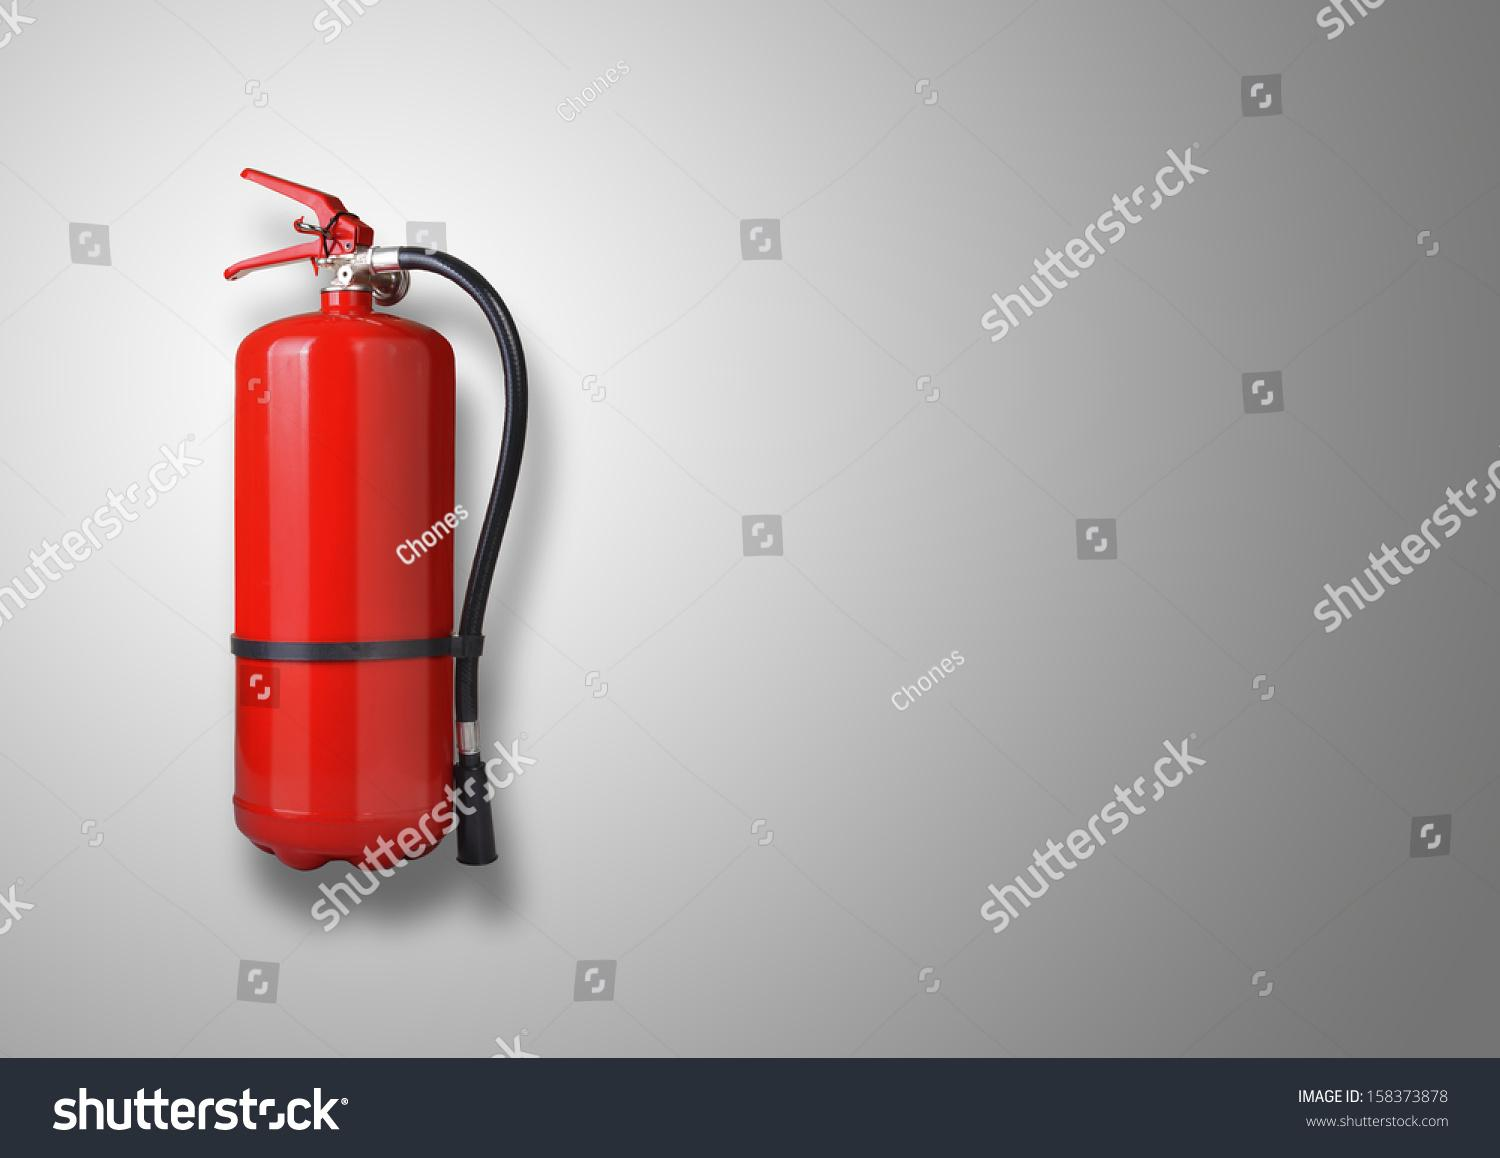wall-mounted: (127, 120, 608, 954)
